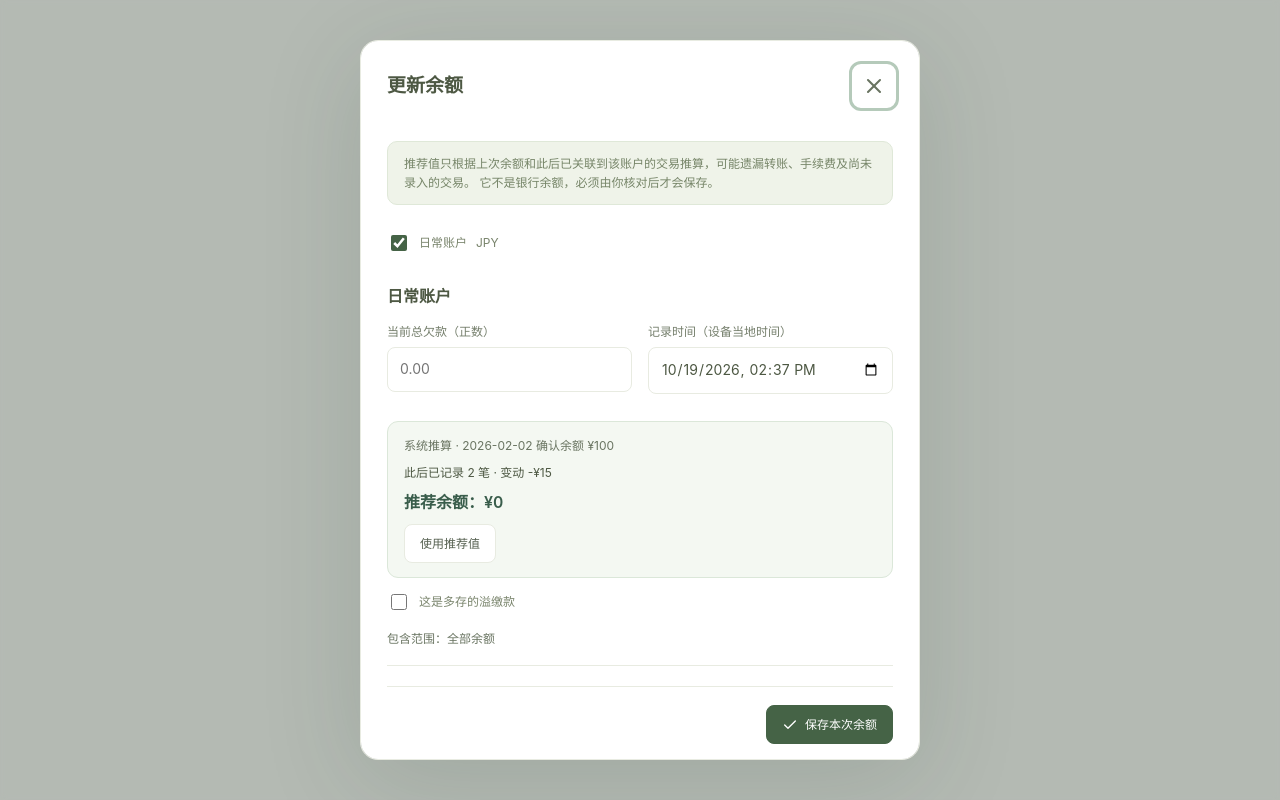
Scenario: preserves credit JPY signed estimate 0 on explicit use
The image size is (1280, 800).
Expected: the field labelled "当前总欠款（正数）" is empty, [387,347,632,392]
Click the button "使用推荐值".
click(450, 543)  # box [404,524,496,563]
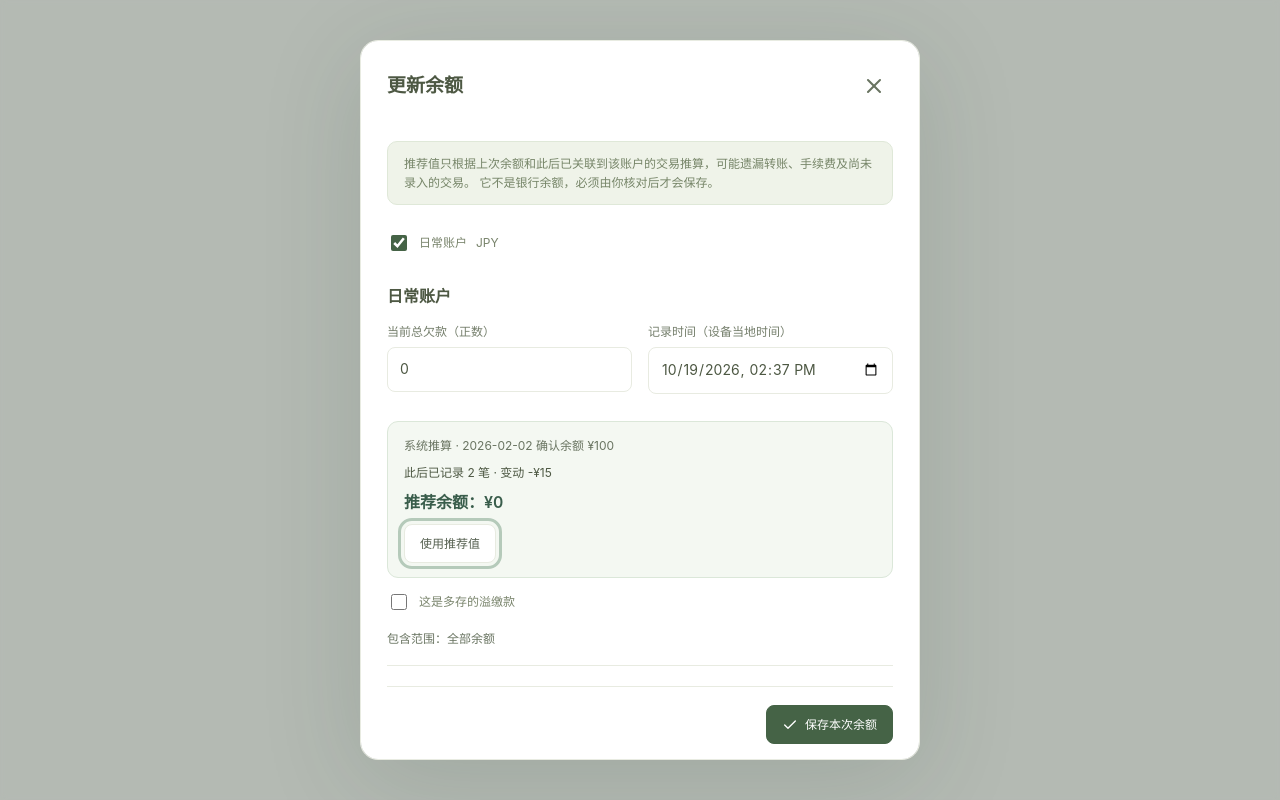
Expected: the checkbox labelled "这是多存的溢缴款" is not checked, [391,594,407,610]
Expected: the field labelled "当前总欠款（正数）" holds "0", [387,347,632,392]
